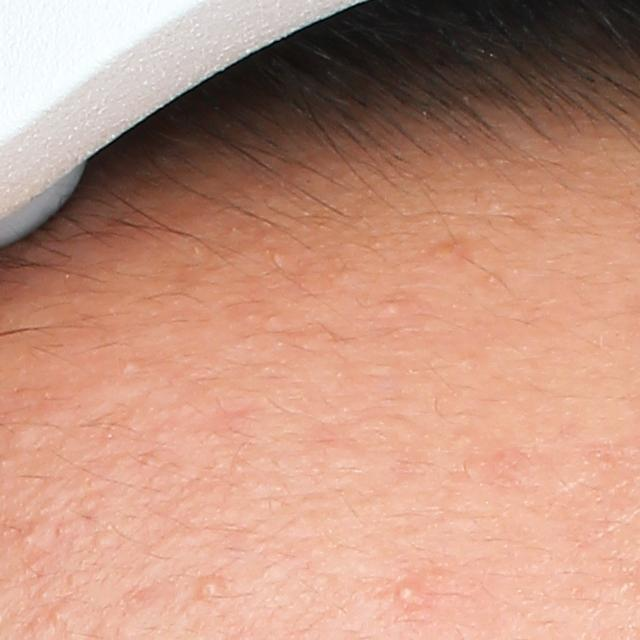comedo: (45, 601, 69, 629), (380, 300, 404, 324), (92, 530, 115, 551), (19, 531, 40, 552), (196, 579, 218, 597), (121, 361, 138, 376)
